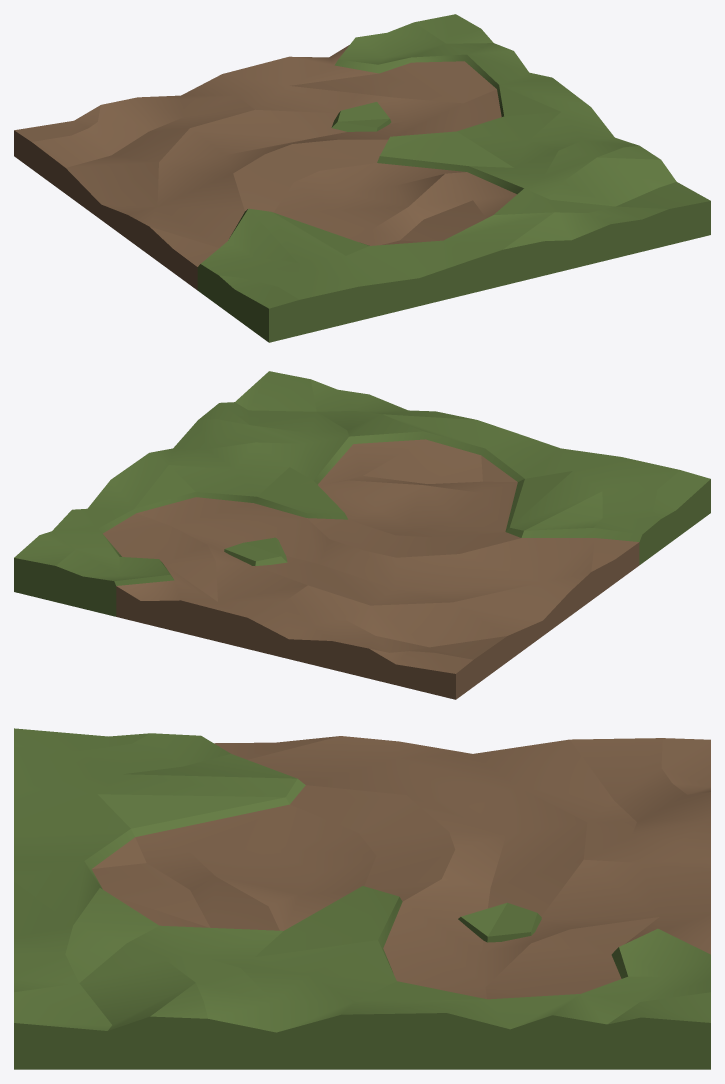
File: Ground_Corner_Internal_RB.glb
3 views of the same model, one above another, from view 1: azimuth 30°, elevation 25°; view 2: azimuth 150°, elevation 25°; view 3: azimuth 270°, elevation 25° (orthographic). The views are drawn at different scales.
Parts seen in each view (by area): view 1: Ground_Corner_Internal_RB; view 2: Ground_Corner_Internal_RB; view 3: Ground_Corner_Internal_RB.
Part boxes in pixels (x1,y1,x2,y2): Ground_Corner_Internal_RB: [14, 14, 710, 342]; Ground_Corner_Internal_RB: [14, 371, 710, 699]; Ground_Corner_Internal_RB: [14, 728, 710, 1069].
Size of the model in its own units: 1.47 by 0.1345 by 1.47.
